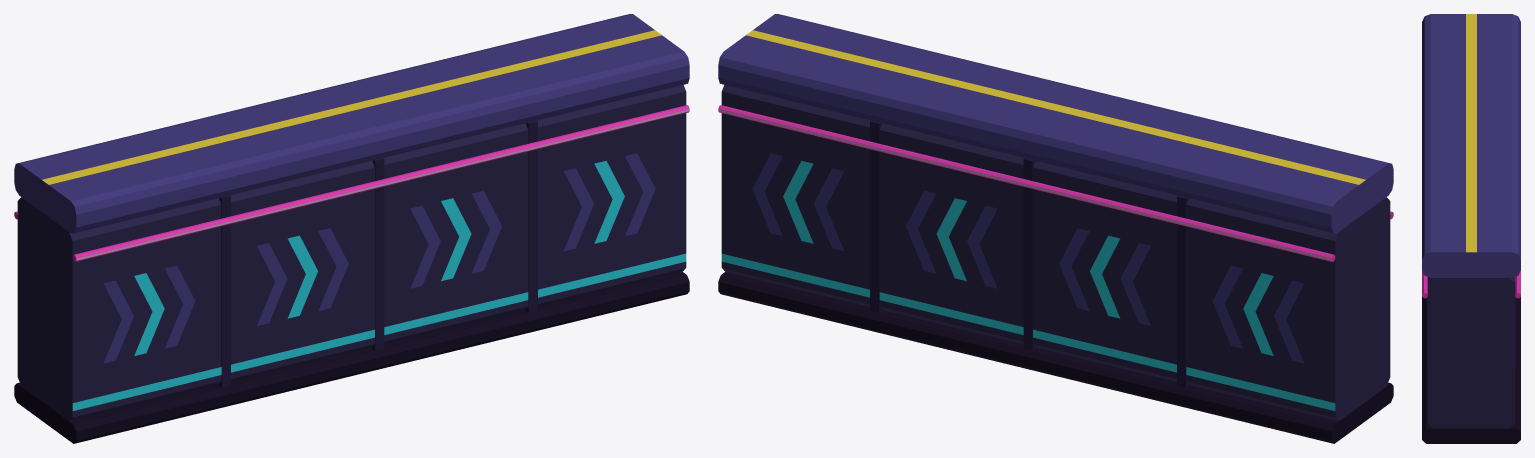
Rendered from neon-border.glb.
3 views of the same model, side by side, from view 1: azimuth 30°, elevation 25°; view 2: azimuth 150°, elevation 25°; view 3: azimuth 270°, elevation 25° (orthographic). The views are drawn at different scales.
Visible parts, largest first — view 1: neon-border; view 2: neon-border; view 3: neon-border.
Boxes of the visible parts, x1=… form: neon-border: x1=14, y1=14, x2=689, y2=443; neon-border: x1=718, y1=14, x2=1393, y2=443; neon-border: x1=1422, y1=14, x2=1520, y2=443.
Bounding box in the file's own units: 4 × 1.5 × 0.701.
